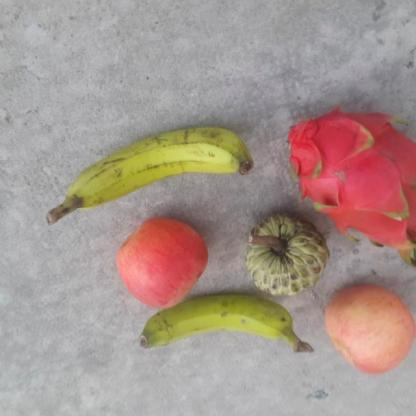annona: (245, 213, 330, 296)
apple: (116, 218, 209, 310), (323, 285, 416, 374)
banana: (44, 124, 255, 226), (138, 294, 318, 354)
pitaya: (287, 112, 416, 248)
